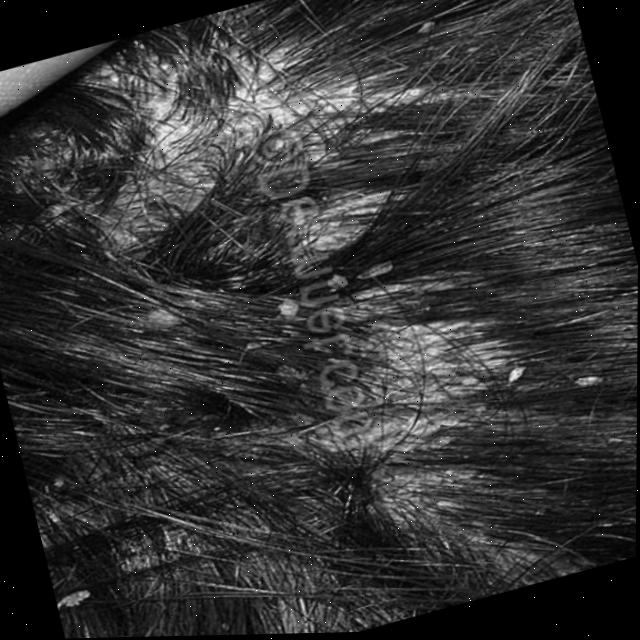Eczema: (58, 59, 543, 574)
